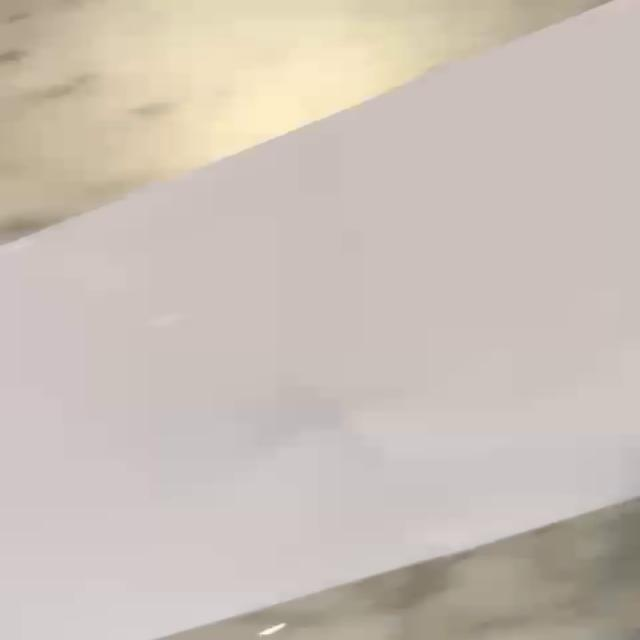road: (0, 0, 640, 640)
